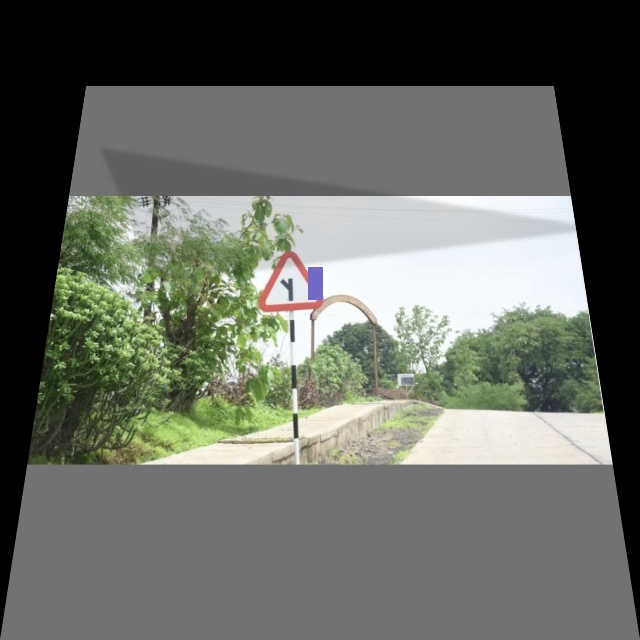Y_Intersection: (258, 242, 323, 314)
